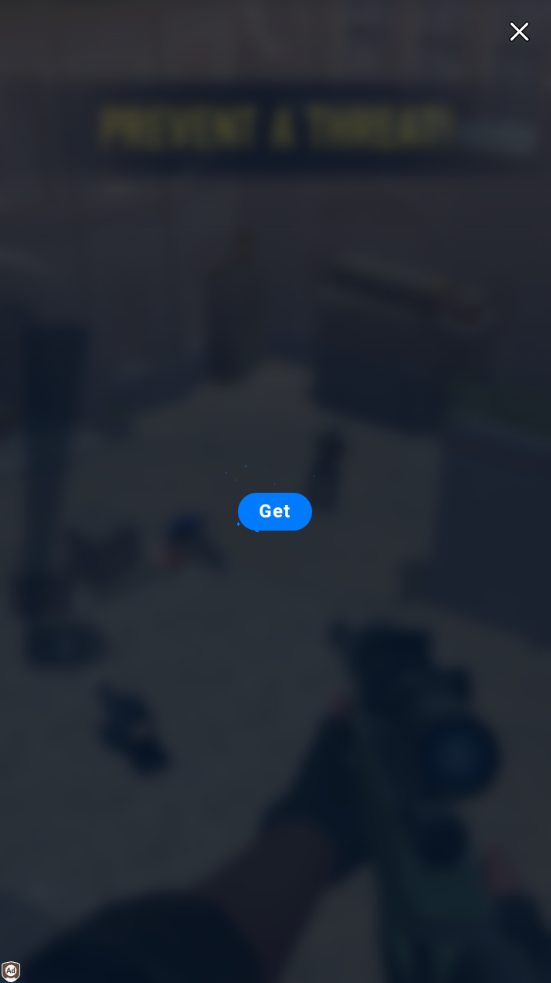close_button: (504, 17, 534, 46)
